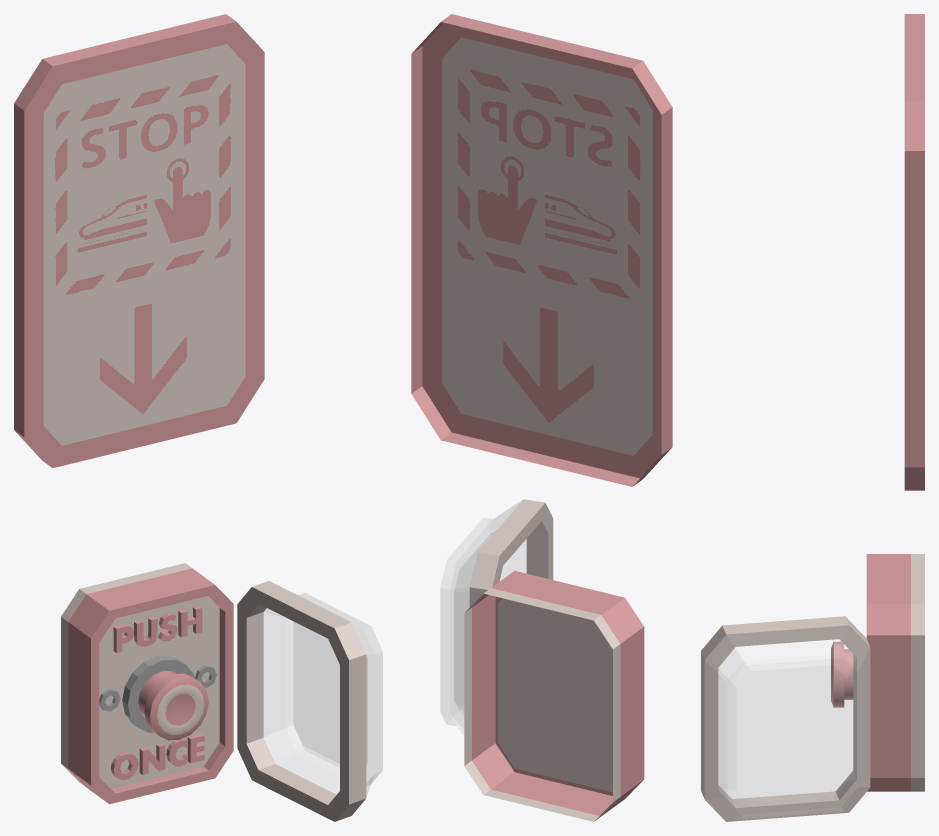
The model's file is StopButton.fbx.
3 views of the same model, side by side, from view 1: azimuth 30°, elevation 25°; view 2: azimuth 150°, elevation 25°; view 3: azimuth 270°, elevation 25° (orthographic). The views are drawn at different scales.
Parts seen in each view (by area): view 1: Button_Sign, ButtonCase, ButtonCristal, Button; view 2: Button_Sign, ButtonCase, ButtonCristal; view 3: ButtonCristal, ButtonCase, Button_Sign, Button.
Boxes of the visible parts, box(x1,y1,x2,y2) form: Button_Sign: box(14, 14, 264, 468); ButtonCase: box(61, 563, 233, 804); ButtonCristal: box(237, 581, 382, 821); Button: box(138, 671, 208, 740); Button_Sign: box(411, 14, 672, 486); ButtonCase: box(464, 571, 644, 821); ButtonCristal: box(440, 499, 553, 734); ButtonCristal: box(701, 616, 870, 821); ButtonCase: box(866, 554, 924, 791); Button_Sign: box(904, 14, 924, 490); Button: box(831, 641, 853, 707).
Size of the model in its own units: 0.6913 by 1.81 by 0.5178.
5 materials, 1 textured.
